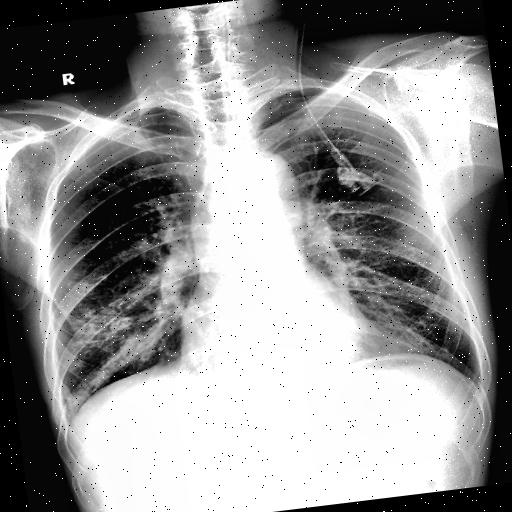0- Aortic enlargement: (228, 146, 303, 220)
7- Lung Opacity: (49, 280, 170, 416), (46, 274, 165, 404)
